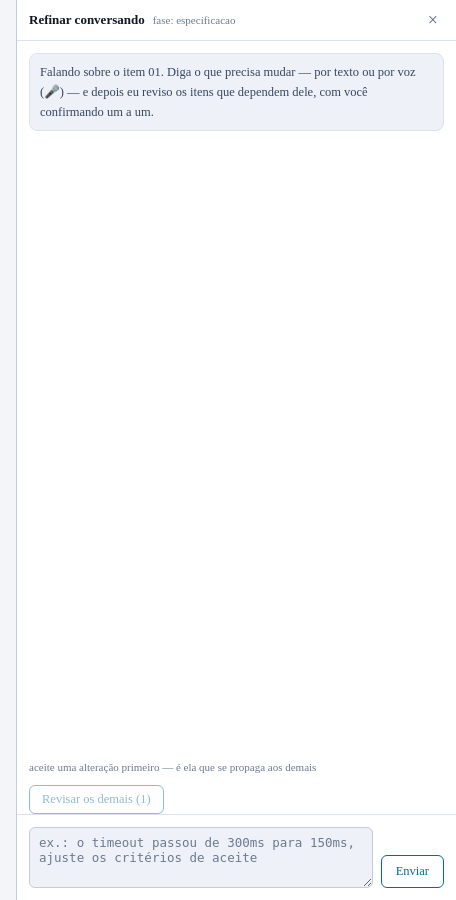
Test: ConversaEspecificacao (SPEC-27 Fase 2 — alterar item e revisar os demais) › 'Revisar os demais' só habilita depois de aceitar algo — é a mudança aceita que se propaga
Expected: the button with test id "revisar-demais" reads "Revisar os demais (1)", 29,785 -> 164,814
Expected: the button with test id "revisar-demais" is disabled, 29,785 -> 164,814
Replace the text in the text box named "Descreva o que você quer" with "x" at (201, 858), box 29,827 -> 373,888
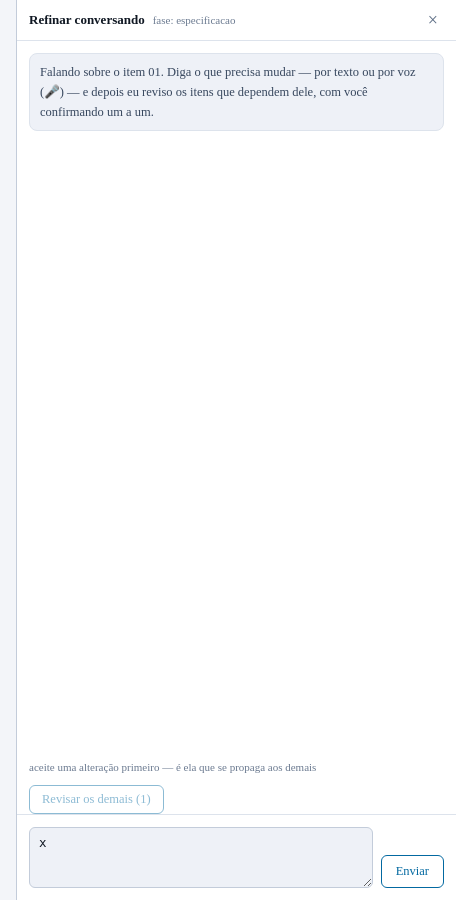
Click the button "Enviar" at (412, 872), box 381,855 -> 444,888
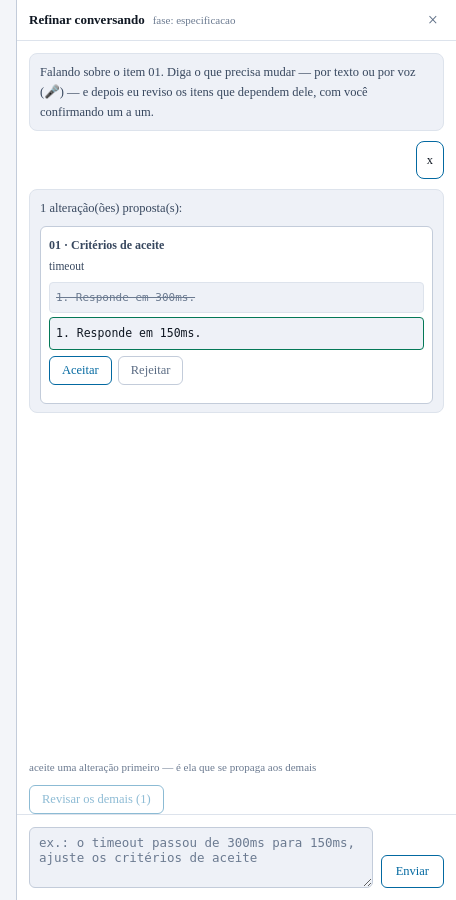
Result: the button "Aceitar" is shown
Click the button "Aceitar" at (80, 370), box 49,356 -> 112,385
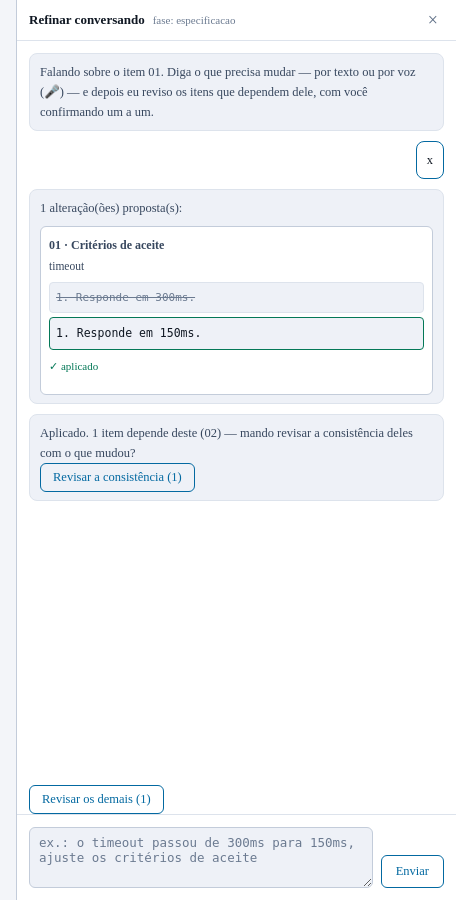
Result: the button with test id "revisar-demais" is enabled at 29,785 -> 164,814
Result: the text "aceite uma alteração primeiro" is gone
